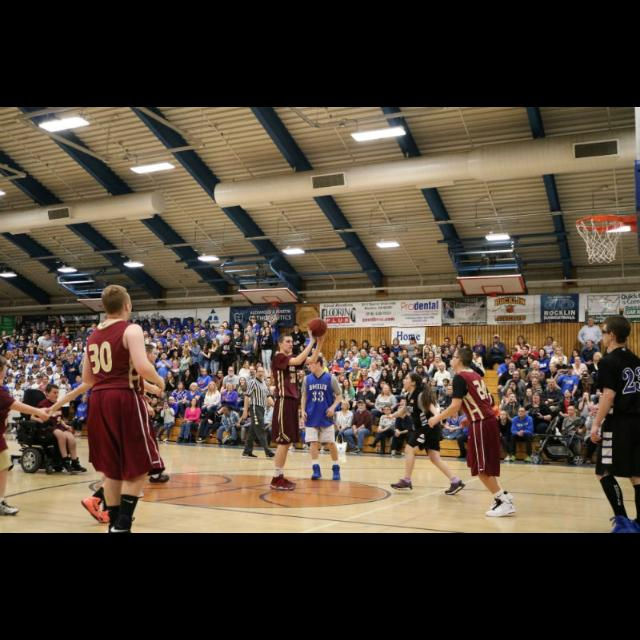head: (102, 286, 134, 322), (601, 316, 633, 350), (452, 348, 474, 372), (402, 373, 424, 393), (120, 326, 142, 346), (142, 344, 160, 366), (278, 334, 296, 354), (308, 357, 326, 375), (46, 384, 60, 404), (0, 355, 8, 380), (256, 366, 266, 379), (593, 405, 603, 417), (532, 393, 542, 405), (398, 407, 408, 419), (266, 397, 276, 408), (517, 408, 527, 418), (512, 372, 522, 382), (222, 407, 232, 417), (509, 381, 518, 392), (358, 401, 367, 412), (499, 411, 508, 421), (526, 389, 536, 398), (383, 406, 392, 416), (242, 362, 252, 371), (568, 407, 576, 417), (564, 390, 572, 400), (509, 394, 517, 404), (548, 380, 556, 390), (532, 378, 540, 388), (532, 370, 540, 380), (533, 362, 541, 372), (509, 363, 517, 373), (504, 356, 512, 366), (522, 346, 530, 356), (572, 350, 580, 360), (608, 344, 616, 354), (587, 318, 595, 328), (512, 348, 520, 358), (447, 386, 455, 396), (438, 363, 446, 373), (400, 398, 408, 408), (383, 385, 391, 395), (364, 382, 372, 392), (190, 383, 198, 393), (250, 366, 258, 376), (192, 338, 200, 348), (60, 374, 68, 384), (15, 380, 23, 390), (594, 353, 602, 362), (367, 378, 375, 387), (228, 368, 236, 377), (210, 382, 217, 392), (218, 370, 225, 380), (339, 374, 346, 384), (583, 393, 591, 401), (507, 389, 515, 397), (546, 337, 554, 345), (518, 336, 526, 344), (452, 410, 460, 418), (417, 366, 425, 374), (472, 353, 480, 361), (426, 338, 434, 346), (428, 351, 436, 359), (342, 402, 350, 410), (190, 399, 198, 407), (184, 370, 192, 378), (418, 358, 426, 366), (388, 357, 396, 365), (380, 340, 388, 348), (256, 361, 264, 369), (182, 349, 190, 357), (444, 379, 451, 388), (228, 383, 235, 392), (568, 366, 574, 376), (382, 370, 388, 380), (266, 378, 272, 388), (402, 362, 408, 372), (173, 350, 179, 360), (219, 326, 225, 336), (223, 321, 229, 331), (494, 336, 501, 344), (344, 380, 351, 388), (178, 382, 185, 390), (162, 354, 170, 361), (584, 372, 590, 381), (575, 358, 581, 367), (540, 349, 546, 358), (361, 349, 367, 358), (351, 339, 357, 348), (312, 348, 318, 357), (555, 348, 561, 356), (588, 340, 594, 348), (552, 342, 558, 350), (532, 348, 540, 354), (431, 380, 437, 388), (457, 336, 463, 344), (442, 348, 450, 354), (445, 338, 451, 346), (425, 347, 431, 355), (362, 369, 368, 377), (240, 378, 246, 386), (202, 369, 208, 377), (372, 364, 378, 372), (377, 359, 383, 367), (403, 351, 409, 359), (394, 338, 400, 346), (353, 364, 359, 372), (345, 361, 351, 369), (373, 350, 379, 358), (379, 347, 385, 355), (348, 351, 354, 359), (338, 351, 344, 359), (353, 347, 359, 355), (340, 340, 346, 348), (300, 370, 306, 378), (225, 335, 231, 343), (265, 327, 271, 335), (252, 317, 258, 325), (234, 328, 240, 336), (212, 339, 220, 345), (83, 396, 89, 404), (69, 353, 75, 361), (57, 364, 63, 372), (435, 355, 441, 363), (334, 359, 340, 366), (200, 329, 206, 336), (558, 358, 564, 364), (477, 340, 483, 346), (398, 372, 404, 378), (405, 358, 411, 364), (414, 350, 420, 356), (411, 338, 417, 344), (370, 348, 376, 354), (363, 342, 369, 348), (293, 326, 299, 332), (300, 346, 306, 352), (245, 336, 251, 342), (263, 322, 269, 328), (247, 326, 253, 332), (248, 320, 254, 326), (235, 324, 241, 330), (167, 372, 173, 378), (76, 377, 82, 383), (164, 402, 168, 410), (272, 322, 276, 328)
person: (42, 320, 166, 530), (426, 346, 518, 520), (268, 318, 330, 494), (383, 371, 467, 497), (1, 352, 52, 520), (119, 337, 173, 487), (27, 382, 89, 476), (299, 356, 345, 482), (238, 365, 280, 461), (522, 391, 554, 445), (324, 400, 354, 454), (581, 404, 607, 466), (560, 405, 586, 467), (389, 404, 418, 458), (343, 400, 372, 454), (509, 406, 535, 466), (367, 404, 397, 456), (575, 315, 605, 365), (252, 394, 276, 448), (5, 379, 27, 437), (552, 364, 582, 406), (370, 384, 400, 426), (52, 374, 72, 436), (501, 394, 524, 446), (176, 398, 202, 444), (217, 319, 237, 376), (69, 374, 87, 436), (556, 388, 580, 434), (152, 351, 174, 401), (63, 352, 81, 411), (215, 333, 238, 379), (231, 320, 249, 378), (492, 410, 512, 462), (498, 361, 522, 404), (216, 404, 240, 446), (194, 327, 212, 383), (177, 382, 203, 420), (214, 325, 232, 379), (542, 378, 564, 422), (392, 396, 416, 436), (52, 362, 72, 410), (498, 370, 526, 404), (186, 336, 202, 394), (502, 379, 524, 421), (355, 380, 377, 422), (153, 400, 175, 442), (524, 376, 544, 422), (217, 382, 240, 422), (438, 404, 462, 442), (201, 380, 223, 420), (166, 380, 188, 420), (220, 366, 240, 410), (286, 322, 308, 362), (258, 326, 274, 380), (258, 318, 274, 372), (241, 324, 259, 372), (178, 348, 194, 402), (524, 359, 546, 397), (547, 346, 569, 384), (230, 328, 246, 380), (166, 349, 182, 401), (70, 392, 88, 438), (498, 387, 518, 428), (488, 332, 508, 372), (246, 315, 262, 365), (525, 370, 547, 406), (432, 361, 454, 397), (576, 368, 596, 406), (290, 368, 310, 406), (497, 354, 518, 390), (358, 376, 379, 412), (567, 356, 589, 390), (428, 353, 448, 389), (264, 319, 280, 363), (242, 319, 256, 369), (519, 386, 537, 424), (422, 336, 441, 372), (355, 368, 373, 406), (195, 367, 213, 405), (234, 359, 252, 397), (586, 351, 606, 385), (410, 366, 430, 400), (292, 342, 312, 376), (578, 392, 594, 434), (390, 369, 408, 406), (581, 338, 599, 374), (375, 368, 393, 404), (339, 378, 357, 414), (243, 365, 260, 403), (540, 336, 560, 368), (308, 346, 328, 378), (240, 333, 256, 373), (566, 349, 588, 378), (210, 336, 222, 388), (552, 354, 570, 388), (534, 347, 552, 381), (250, 360, 268, 394), (472, 336, 488, 374), (452, 335, 471, 367), (260, 376, 276, 414), (512, 334, 532, 364), (468, 351, 486, 384), (440, 384, 458, 416), (438, 378, 456, 410), (412, 358, 430, 390), (515, 347, 533, 378), (422, 351, 440, 382), (212, 370, 228, 404), (382, 356, 398, 390), (339, 360, 355, 394), (356, 348, 372, 382), (600, 344, 618, 374), (395, 362, 413, 392), (364, 362, 382, 392), (438, 336, 454, 368), (398, 357, 414, 389), (348, 362, 364, 394), (368, 349, 384, 381), (371, 358, 387, 389), (334, 338, 350, 369), (549, 340, 565, 370), (424, 378, 440, 408), (388, 338, 404, 368), (236, 375, 250, 409), (408, 348, 424, 377), (336, 372, 350, 403), (376, 338, 390, 369), (180, 368, 194, 398), (376, 346, 390, 376), (332, 350, 346, 380), (358, 340, 372, 370), (346, 338, 360, 368), (526, 346, 542, 372), (439, 346, 455, 372), (421, 345, 435, 373), (397, 349, 411, 377), (406, 336, 420, 364), (328, 358, 342, 386), (366, 346, 379, 376), (507, 347, 521, 373), (343, 350, 357, 376), (349, 345, 363, 371), (163, 370, 175, 400)
